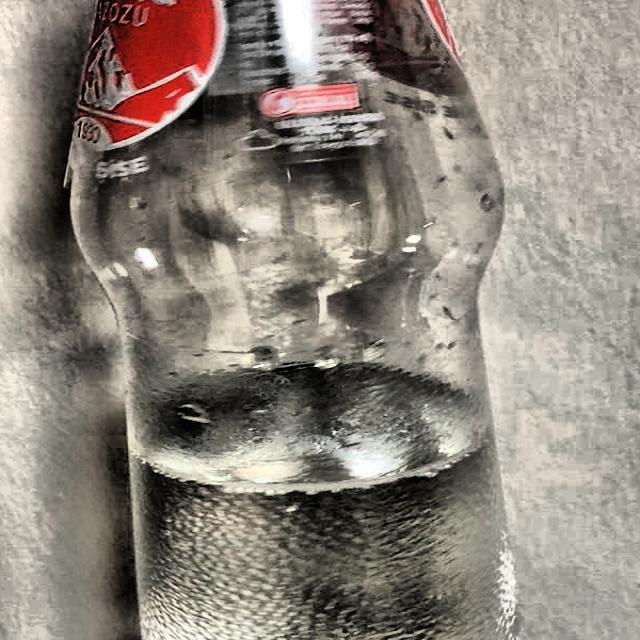plastic: (60, 0, 526, 640)
